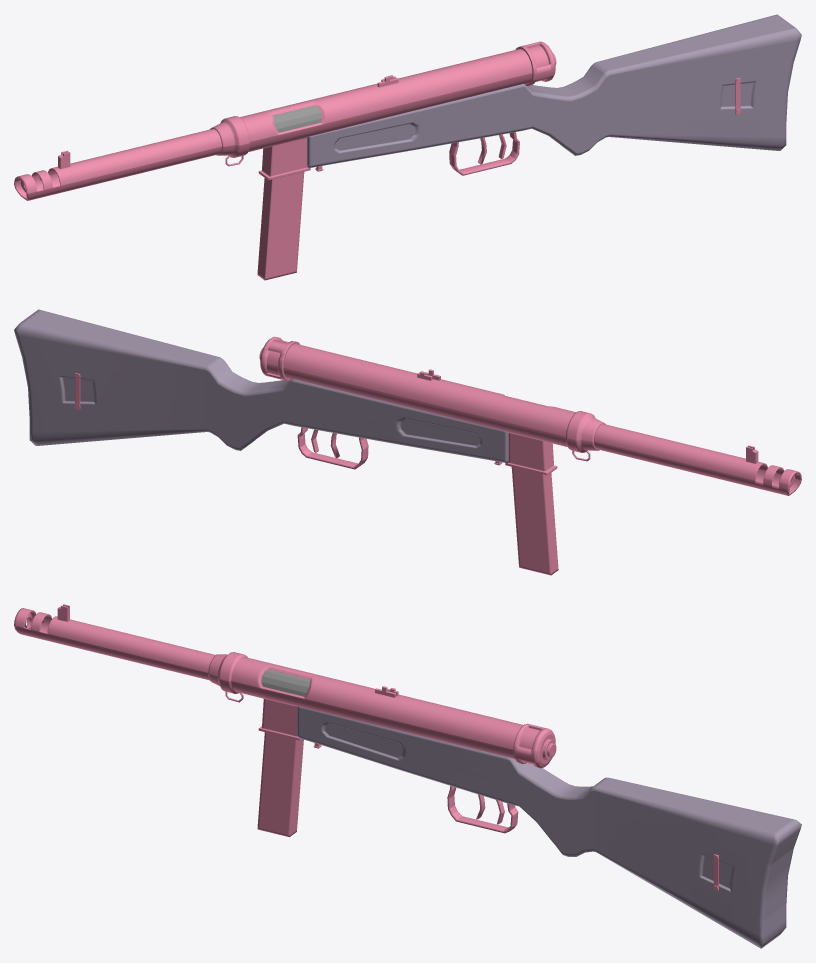
File: gun.FBX
The picture shows the model from 3 angles, top to bottom: view 1: azimuth 30°, elevation 25°; view 2: azimuth 150°, elevation 25°; view 3: azimuth 330°, elevation 25°; orthographic projection.
Parts seen in each view (by area): view 1: Gun_tuo, High_UV, Gun_dan; view 2: Gun_tuo, High_UV; view 3: Gun_tuo, High_UV, Gun_dan.
Part boxes in pixels (x1=…): Gun_tuo: x1=307, y1=14, x2=801, y2=168; High_UV: x1=14, y1=41, x2=741, y2=280; Gun_dan: x1=273, y1=105, x2=321, y2=132; Gun_tuo: x1=14, y1=309, x2=508, y2=463; High_UV: x1=74, y1=336, x2=801, y2=575; Gun_tuo: x1=297, y1=706, x2=801, y2=948; High_UV: x1=14, y1=604, x2=718, y2=891; Gun_dan: x1=261, y1=669, x2=310, y2=696.
Size of the model in its own units: 1210 by 260 by 64.55.
